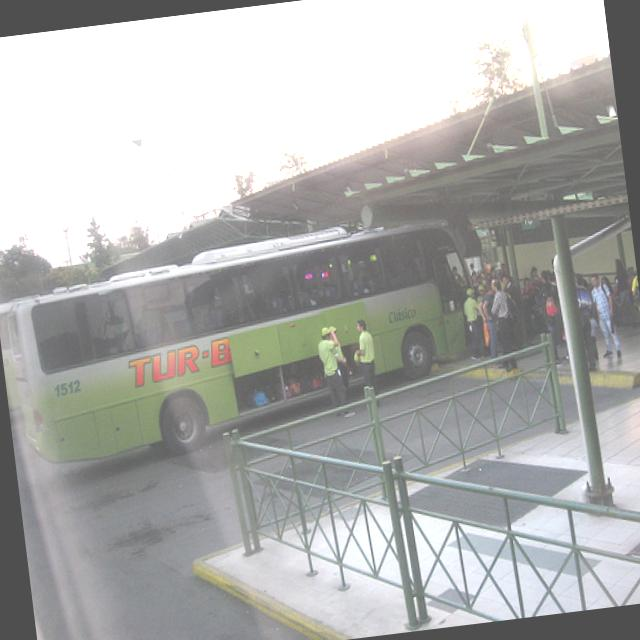Vehicle: (0, 204, 488, 465)
